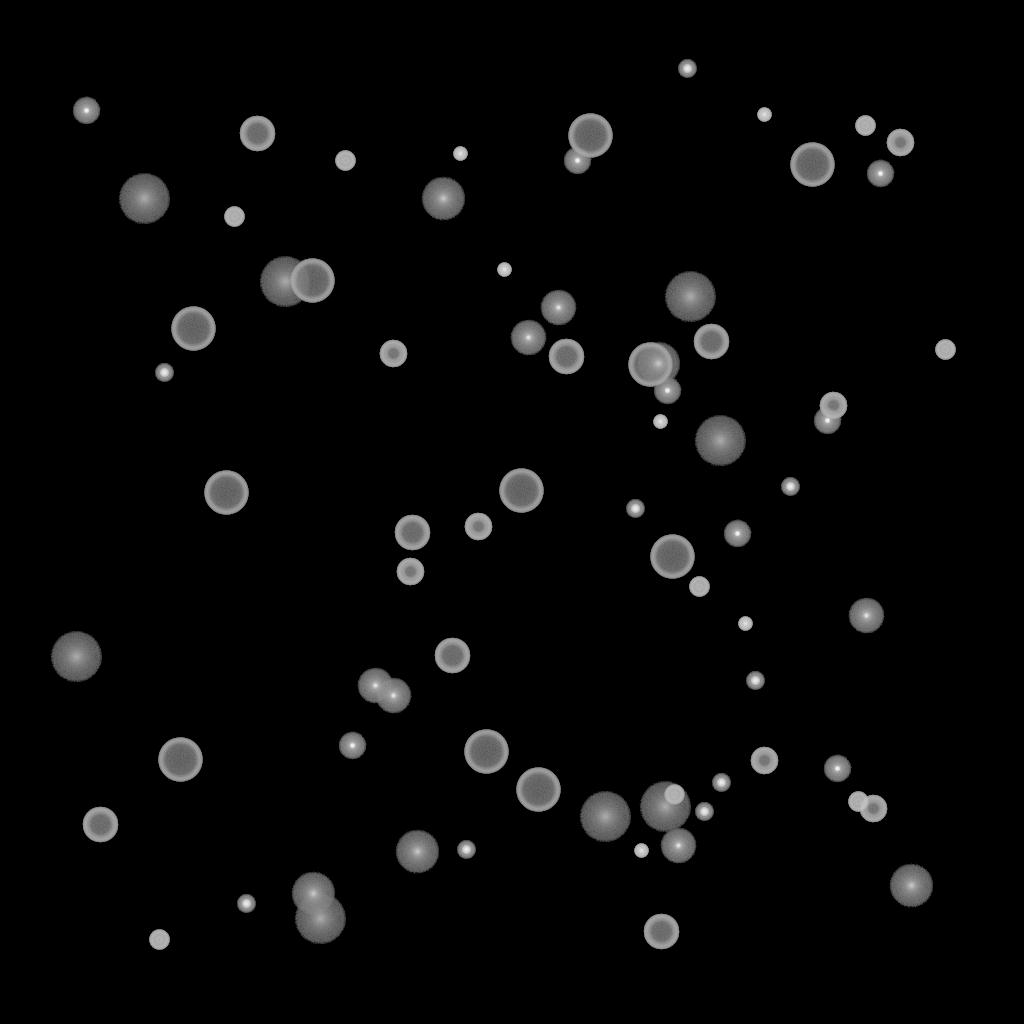depth:-10: (563, 147, 591, 175), (866, 160, 894, 188), (653, 377, 681, 405), (723, 520, 751, 548), (338, 732, 366, 760), (813, 407, 841, 435), (823, 755, 851, 783), (72, 97, 100, 125)
depth:-20: (781, 478, 799, 496), (712, 774, 730, 792), (457, 841, 475, 859), (678, 60, 696, 78), (695, 803, 713, 821), (746, 672, 764, 690), (155, 364, 173, 382), (626, 500, 644, 518), (237, 895, 255, 913)
depth:-30: (757, 108, 771, 122), (653, 415, 667, 429), (738, 617, 752, 631), (453, 147, 467, 161), (634, 844, 648, 858), (497, 263, 511, 277)
depth:-40: (664, 785, 684, 805), (224, 207, 244, 227), (855, 116, 875, 136), (149, 930, 169, 950), (848, 792, 868, 812), (689, 577, 709, 597), (935, 340, 955, 360), (335, 151, 355, 171)
depth:-50: (750, 747, 778, 775), (819, 392, 847, 420), (859, 795, 887, 823), (379, 340, 407, 368), (396, 558, 424, 586), (464, 513, 492, 541), (886, 129, 914, 157)
depth:-60: (239, 116, 275, 152), (434, 638, 470, 674), (548, 339, 584, 375), (394, 515, 430, 551), (693, 324, 729, 360), (82, 807, 118, 843), (643, 914, 679, 950)
depth:-70: (516, 768, 560, 812), (158, 738, 202, 782), (171, 307, 215, 351), (290, 259, 334, 303), (650, 535, 694, 579), (464, 730, 508, 774), (499, 469, 543, 513), (204, 471, 248, 515), (790, 143, 834, 187), (628, 343, 672, 387), (568, 114, 612, 158)
depth:0: (848, 598, 884, 634), (510, 320, 546, 356), (375, 678, 411, 714), (660, 828, 696, 864), (540, 290, 576, 326), (357, 668, 393, 704)
depth:10: (291, 872, 335, 916), (889, 864, 933, 908), (421, 177, 465, 221), (395, 830, 439, 874), (636, 342, 680, 386)
depth:20: (694, 416, 746, 466), (639, 782, 691, 832), (50, 632, 102, 682), (259, 257, 311, 307), (664, 272, 716, 322), (118, 174, 170, 224), (579, 792, 631, 842), (294, 894, 346, 944)
